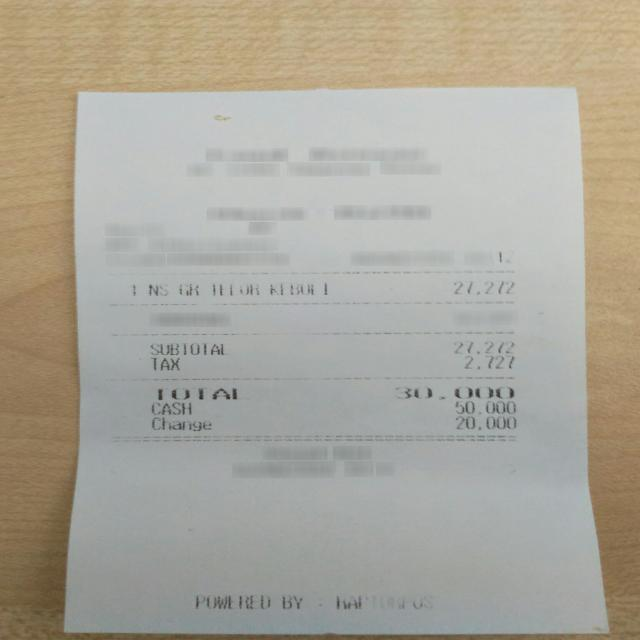kertas: (64, 88, 607, 634)
